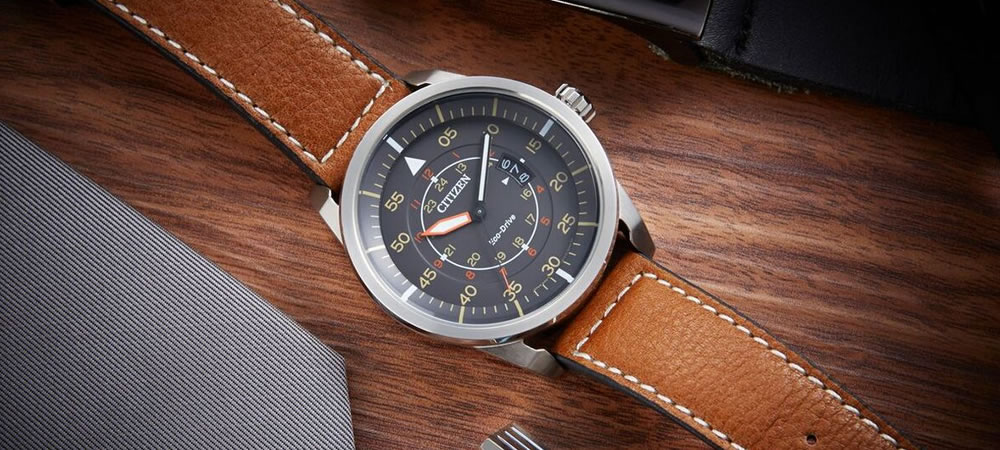clock: (339, 73, 628, 347)
